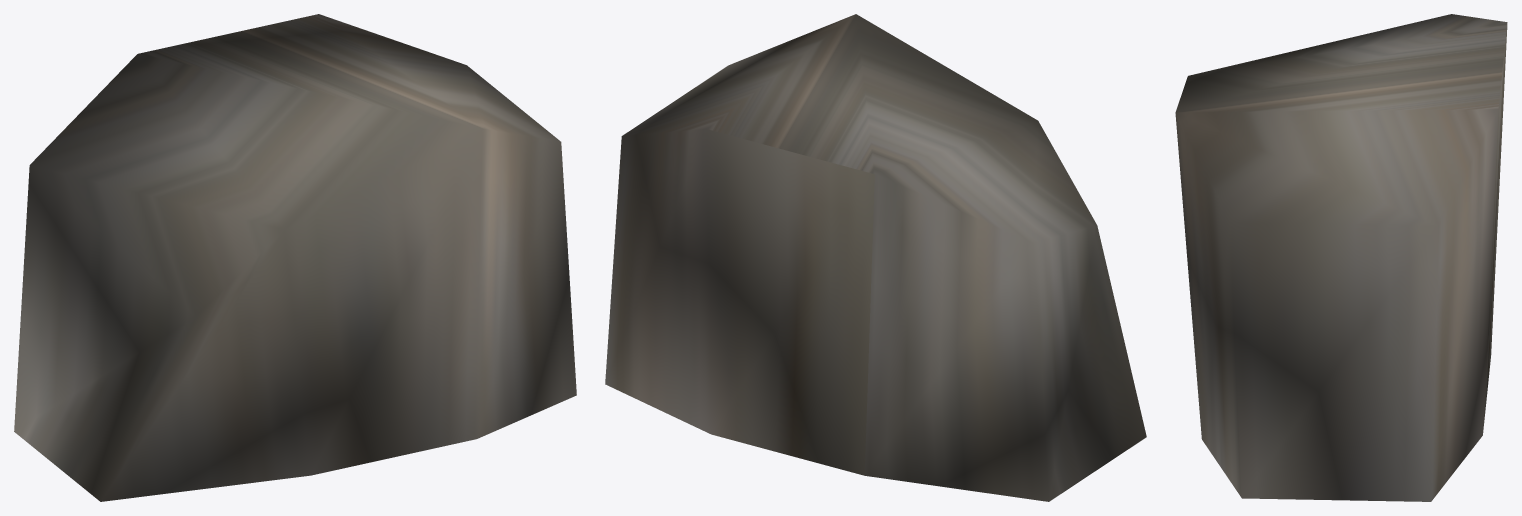
The model's file is ruin4-s.glb.
3 renders of one model, left to right at view 1: azimuth 30°, elevation 25°; view 2: azimuth 150°, elevation 25°; view 3: azimuth 270°, elevation 25°, orthographic. The views are drawn at different scales.
Parts seen in each view (by area): view 1: ruin4; view 2: ruin4; view 3: ruin4.
Boxes of the visible parts, bbox=[...] form: ruin4: bbox=[14, 14, 576, 501]; ruin4: bbox=[605, 14, 1146, 501]; ruin4: bbox=[1175, 14, 1507, 501].
Bounding box in the file's own units: 1.89 × 1.22 × 1.13.
Materials: 1 (1 with a texture image).
